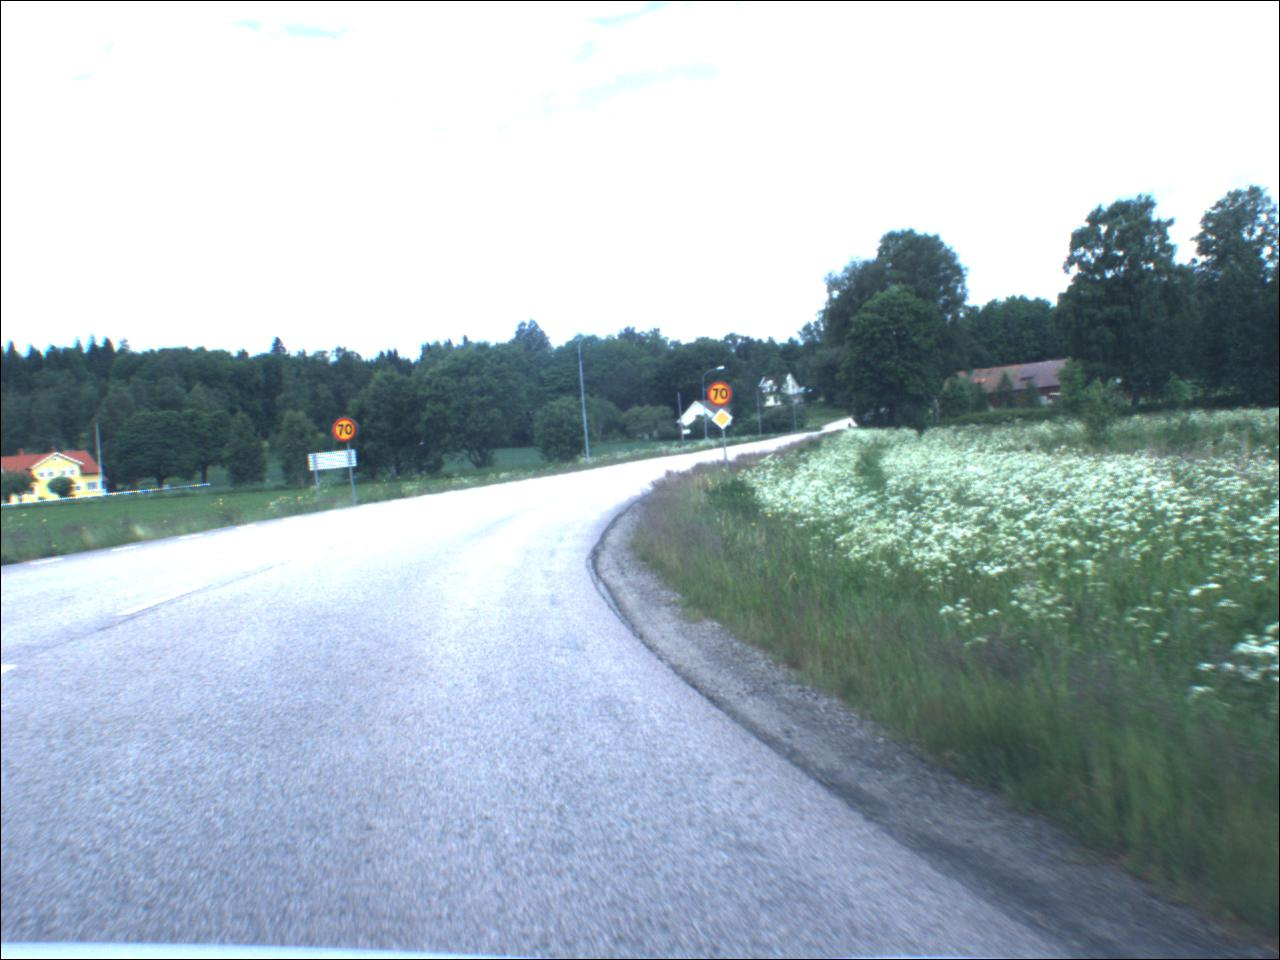70_SIGN: (332, 418, 361, 446), (708, 381, 735, 408)
PRIORITY_ROAD: (711, 411, 737, 433)
